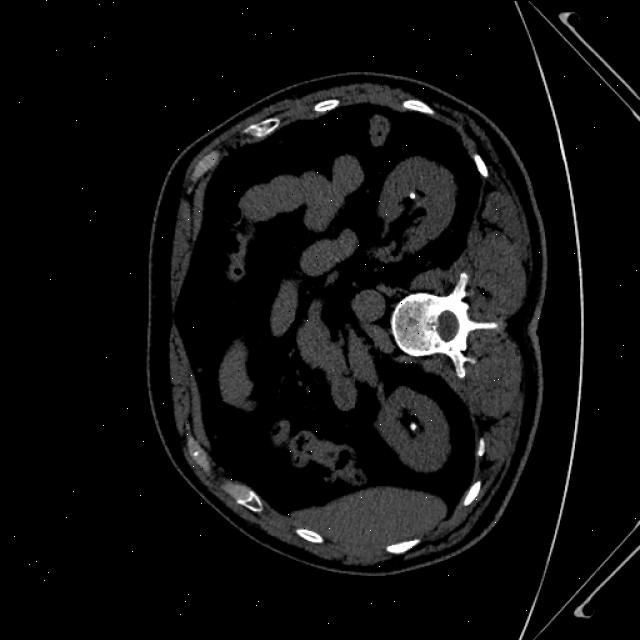kidneystone: (410, 422, 417, 431)
